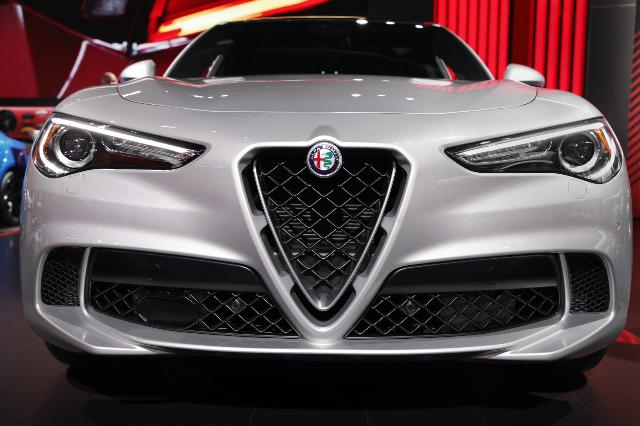alpha-romeo: (18, 15, 634, 375)
